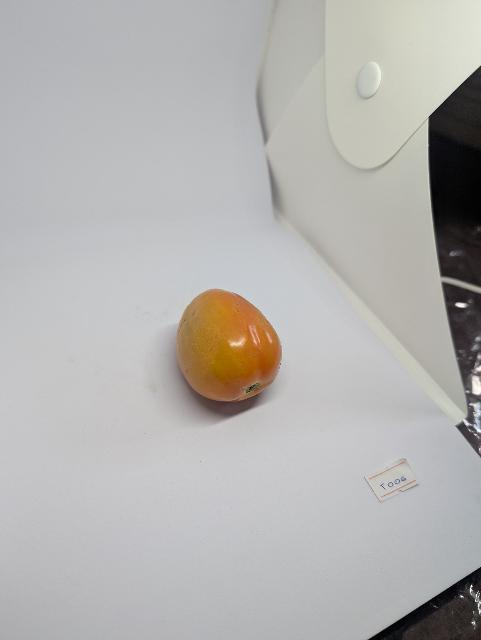turning: (167, 282, 294, 411)
